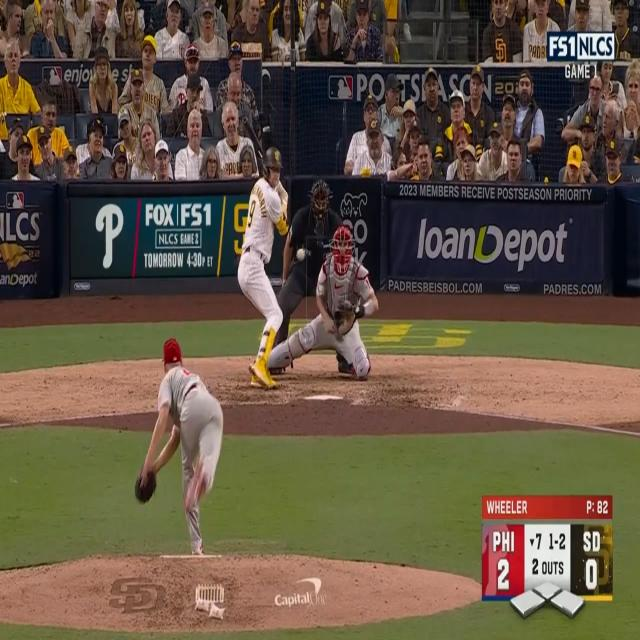baseball: (296, 248, 304, 261)
